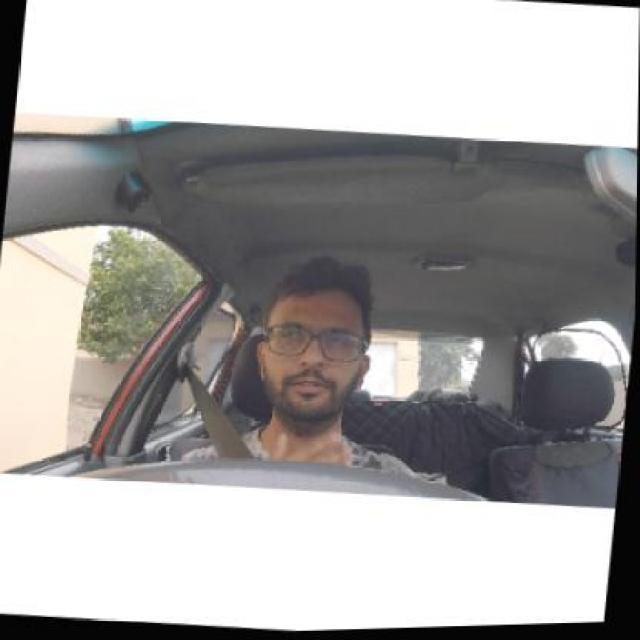person: (246, 249, 380, 436)
